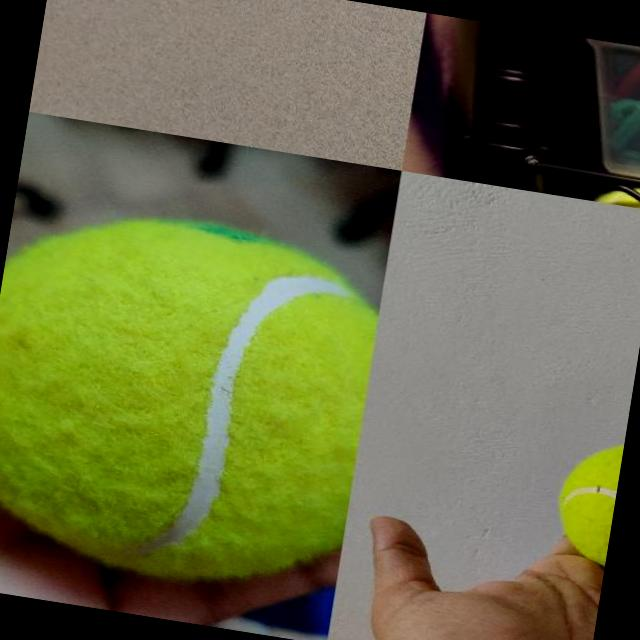Tennis Ball: (0, 194, 387, 601), (546, 431, 624, 575)
